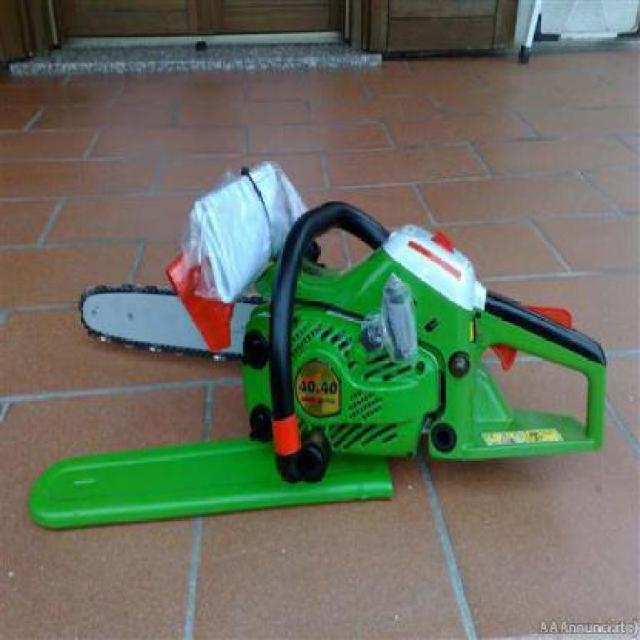Chainsaw: (63, 183, 608, 497)
